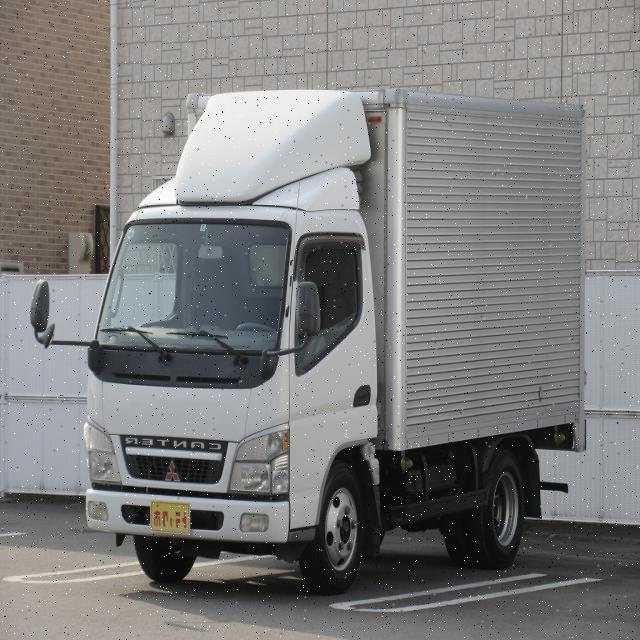truck: (32, 84, 596, 586)
